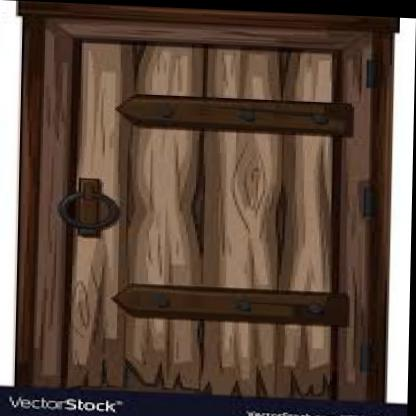door: (42, 22, 353, 390)
